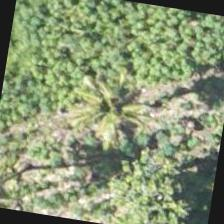Kelapa_Sawit: (59, 52, 162, 155)
